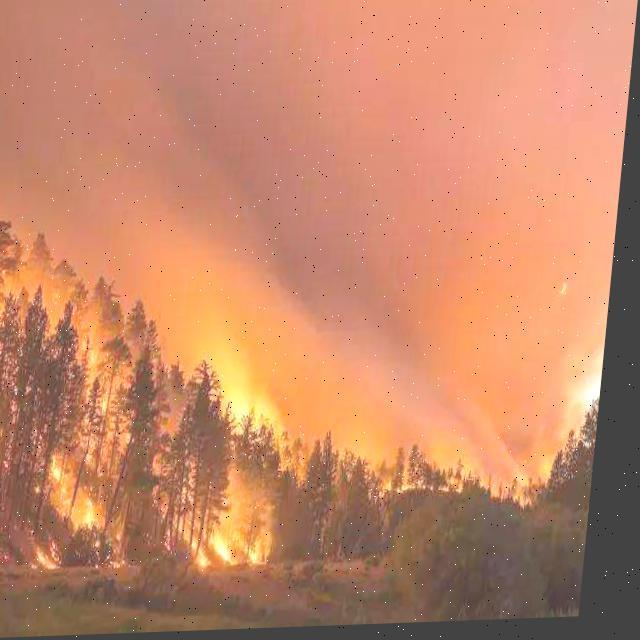Fire: (0, 318, 156, 572), (194, 384, 298, 574)
